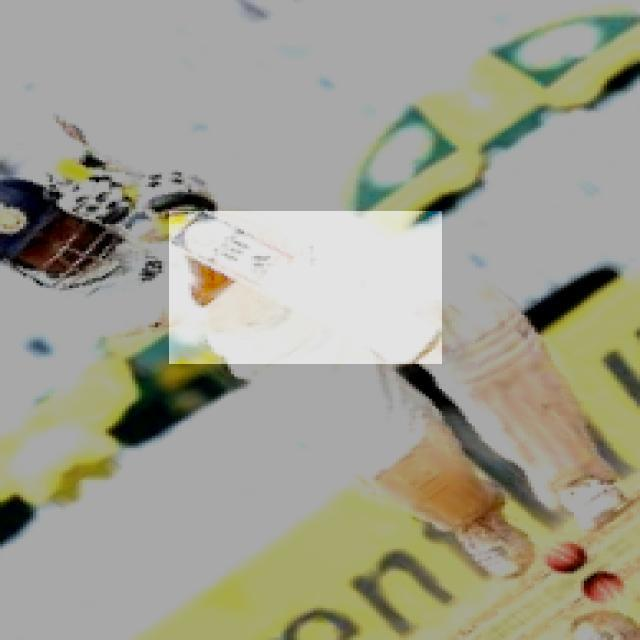bat: (168, 209, 442, 362)
toe: (406, 329, 435, 371)
